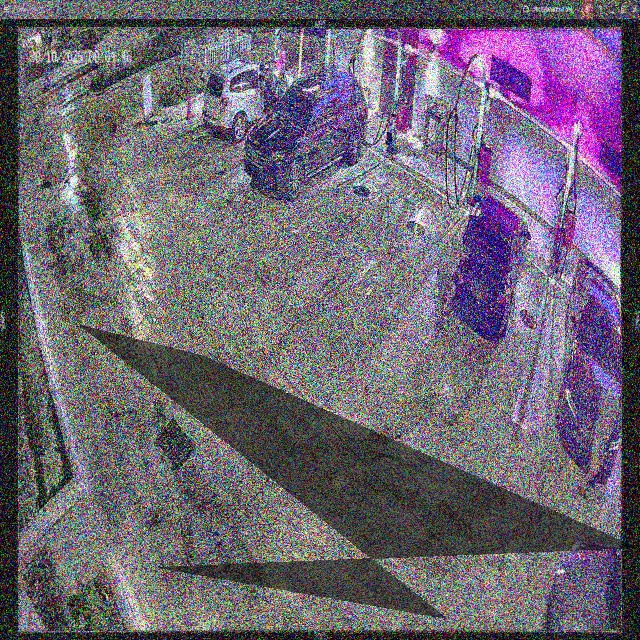Car: (242, 71, 368, 197), (453, 189, 531, 340)
